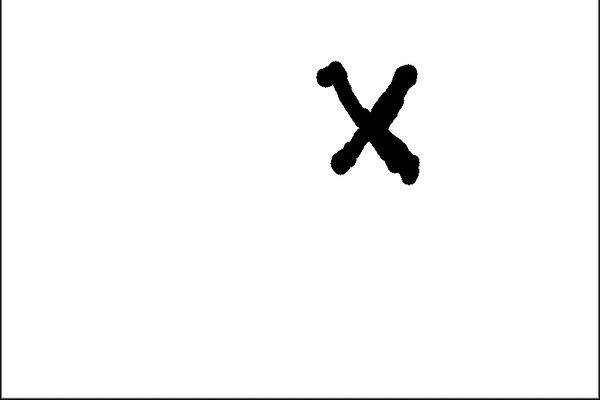X: (295, 40, 445, 201)
